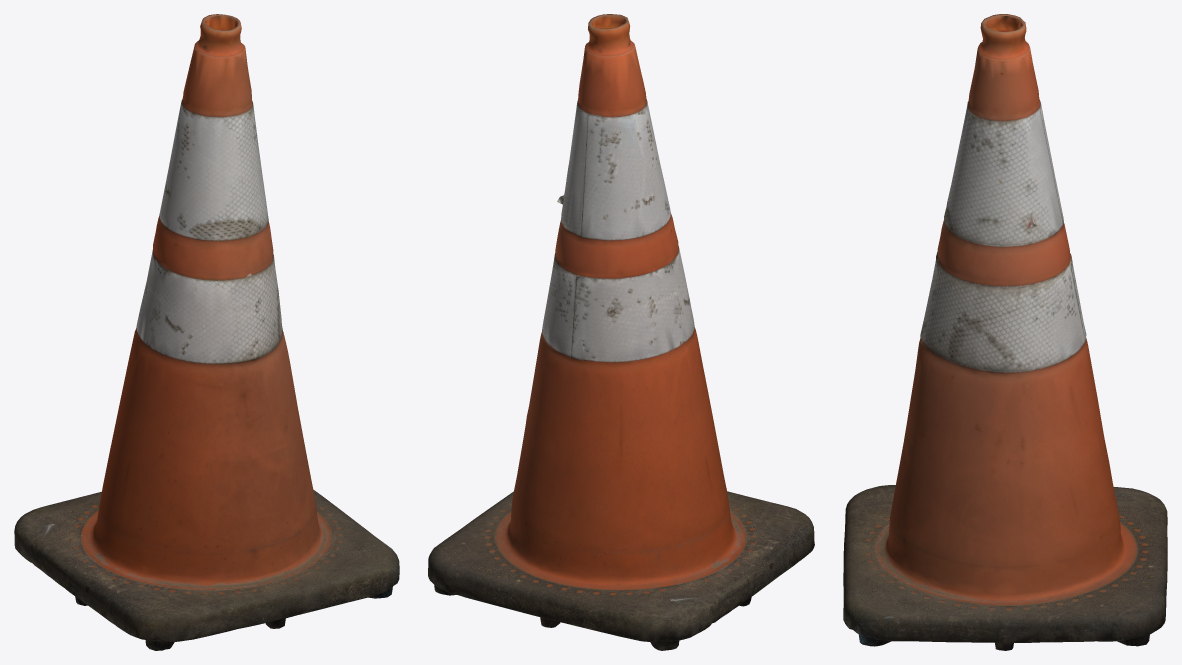
3 views of the same model, side by side, from view 1: azimuth 30°, elevation 25°; view 2: azimuth 150°, elevation 25°; view 3: azimuth 270°, elevation 25° (orthographic). The views are drawn at different scales.
Visible parts, largest first — view 1: uhrhabqfa_LOD0_TIER2_000; view 2: uhrhabqfa_LOD0_TIER2_000; view 3: uhrhabqfa_LOD0_TIER2_000.
Boxes of the visible parts, box(x1,y1,x2,y2) form: uhrhabqfa_LOD0_TIER2_000: box(14, 14, 399, 650); uhrhabqfa_LOD0_TIER2_000: box(428, 14, 814, 650); uhrhabqfa_LOD0_TIER2_000: box(843, 14, 1167, 650).
Bounding box in the file's own units: 0.3542 × 0.6878 × 0.3536.
1 material, 1 textured.
